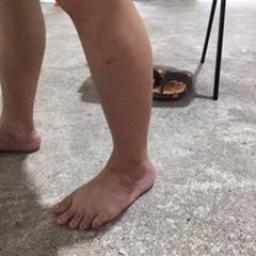Lateral View -Left Foot-: (45, 136, 166, 234)
